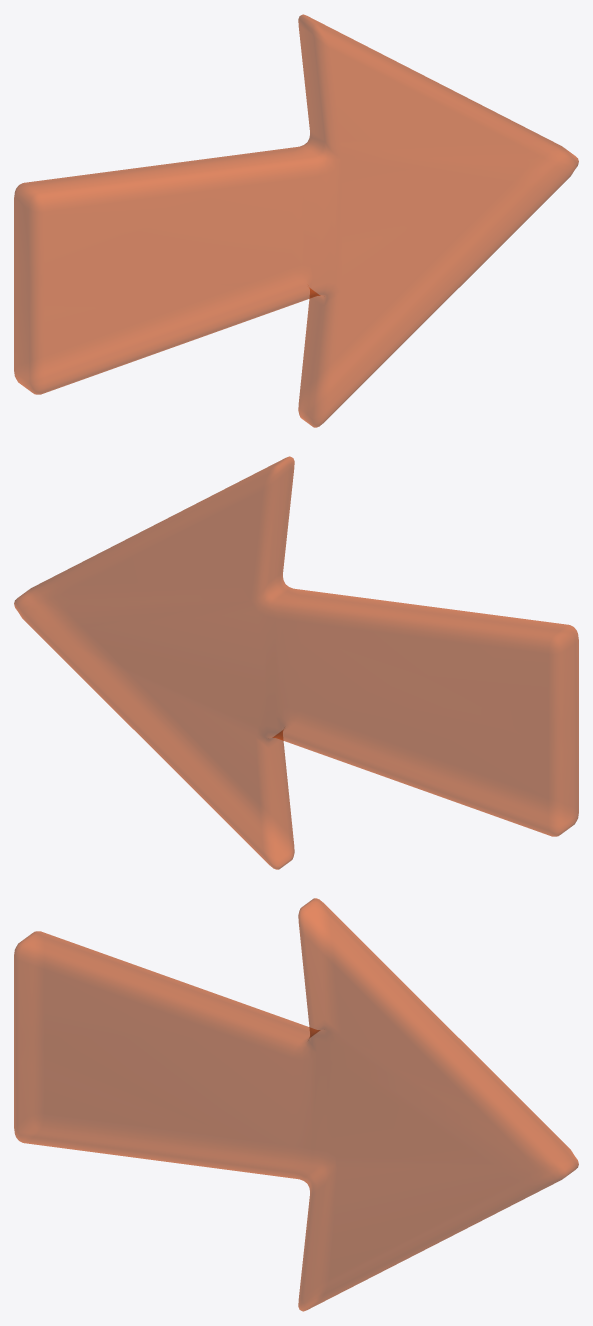
The model's file is arrow.glb.
The picture shows the model from 3 angles, top to bottom: view 1: azimuth 30°, elevation 25°; view 2: azimuth 150°, elevation 25°; view 3: azimuth 330°, elevation 25°; orthographic projection.
Visible parts, largest first — view 1: Arrow; view 2: Arrow; view 3: Arrow.
Part boxes in pixels (x1,y1,x2,y2): Arrow: (14,14,578,427); Arrow: (14,456,578,869); Arrow: (14,898,578,1311).
Size of the model in its own units: 3.01 by 2.11 by 0.2343.
